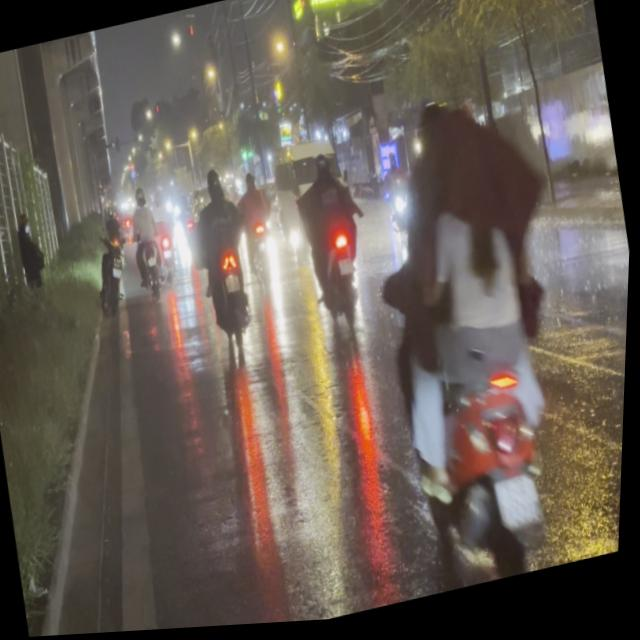licenseplate: (337, 70, 622, 607)
nohelmet: (496, 477, 547, 535)
